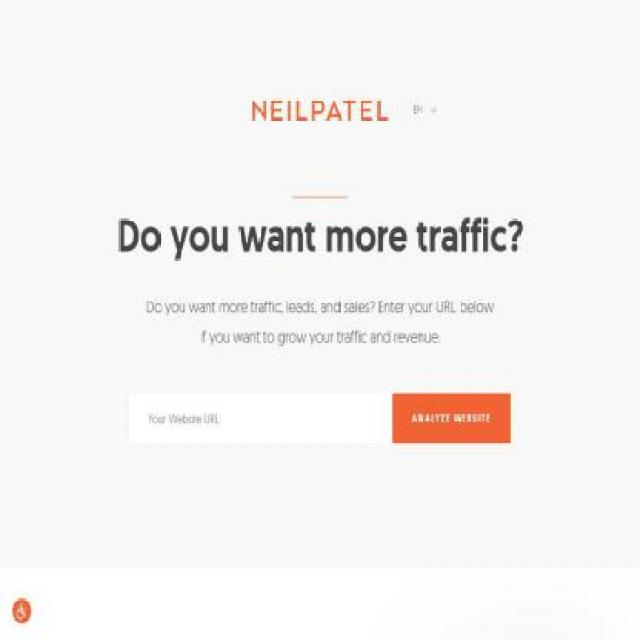button: (252, 100, 388, 120), (399, 99, 436, 121), (12, 599, 31, 623)
field: (129, 393, 394, 444), (392, 393, 511, 444)
